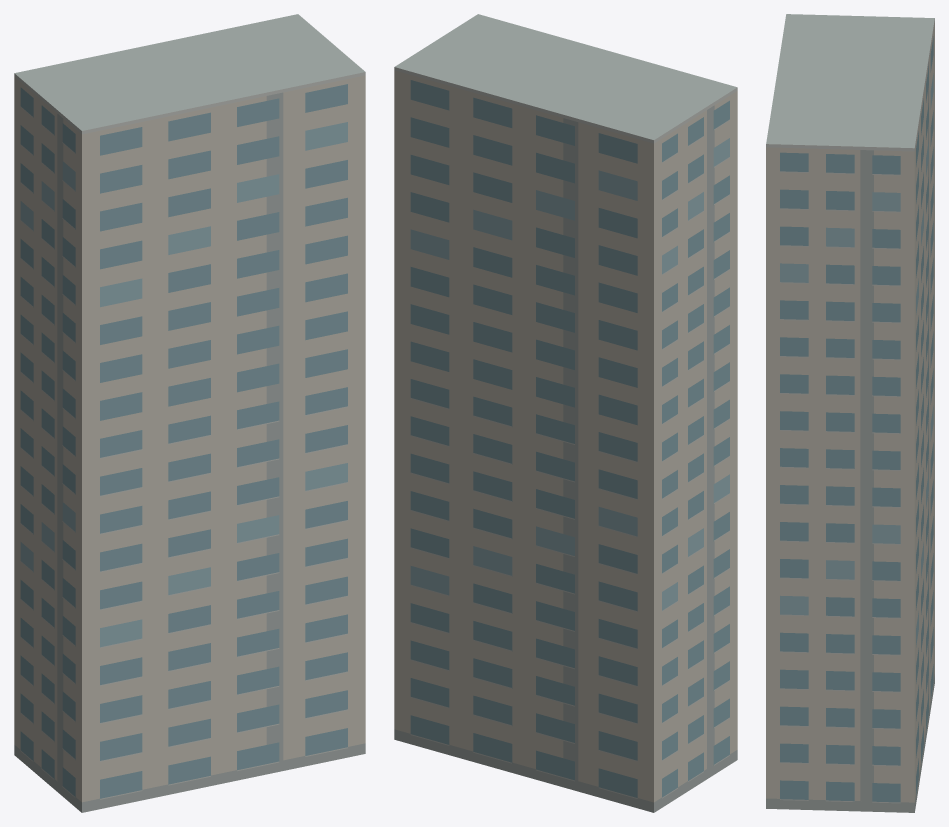
The model's file is residential-c115b86a-b2f3-4429-b323-c0fb18a4ece3.glb.
3 renders of one model, left to right at view 1: azimuth 30°, elevation 25°; view 2: azimuth 150°, elevation 25°; view 3: azimuth 270°, elevation 25°, orthographic. The views are drawn at different scales.
Visible parts, largest first — view 1: residential-c115b86a-b2f3-4429-b323-c0fb18a4ece3.tmp; view 2: residential-c115b86a-b2f3-4429-b323-c0fb18a4ece3.tmp; view 3: residential-c115b86a-b2f3-4429-b323-c0fb18a4ece3.tmp.
Boxes of the visible parts, x1,y1,x2,y2 form: residential-c115b86a-b2f3-4429-b323-c0fb18a4ece3.tmp: [14, 14, 365, 812]; residential-c115b86a-b2f3-4429-b323-c0fb18a4ece3.tmp: [394, 14, 737, 812]; residential-c115b86a-b2f3-4429-b323-c0fb18a4ece3.tmp: [766, 14, 934, 812].
Size of the model in its own units: 21.22 by 49 by 11.29.
